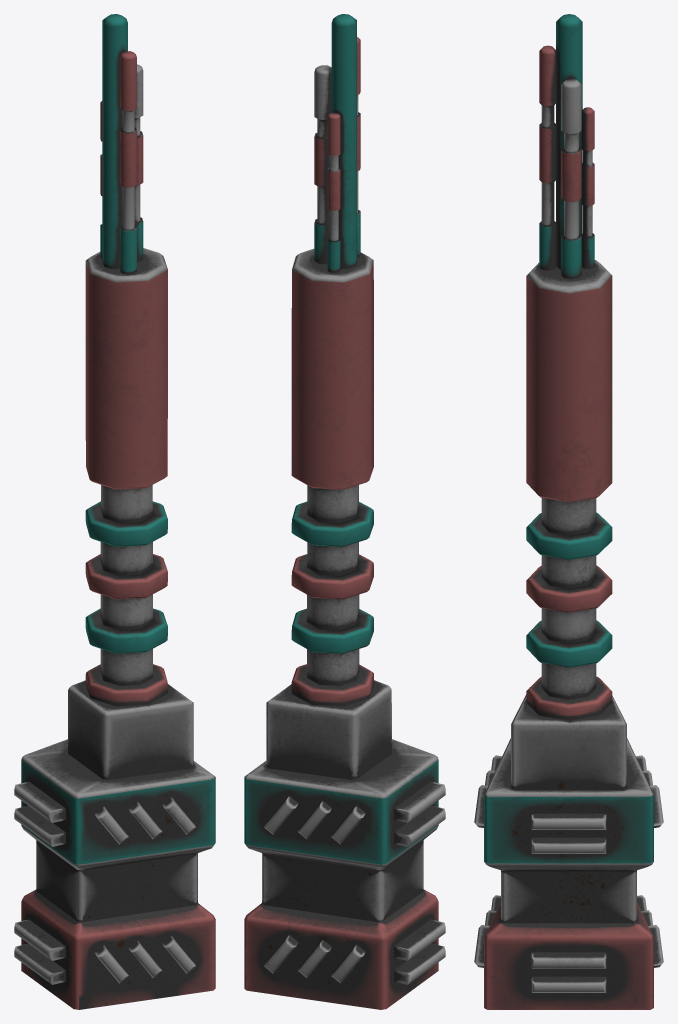
The model's file is SM_Props_42.fbx.
The picture shows the model from 3 angles, left to right: view 1: azimuth 30°, elevation 25°; view 2: azimuth 150°, elevation 25°; view 3: azimuth 270°, elevation 25°; orthographic projection.
Visible parts, largest first — view 1: SM_Props_42; view 2: SM_Props_42; view 3: SM_Props_42.
Part boxes in pixels (x1=…): SM_Props_42: x1=14, y1=14, x2=215, y2=1009; SM_Props_42: x1=244, y1=14, x2=445, y2=1009; SM_Props_42: x1=474, y1=14, x2=663, y2=1009.
Bounding box in the file's own units: 51.13 × 53.05 × 298.
Materials: 1 (1 with a texture image).
